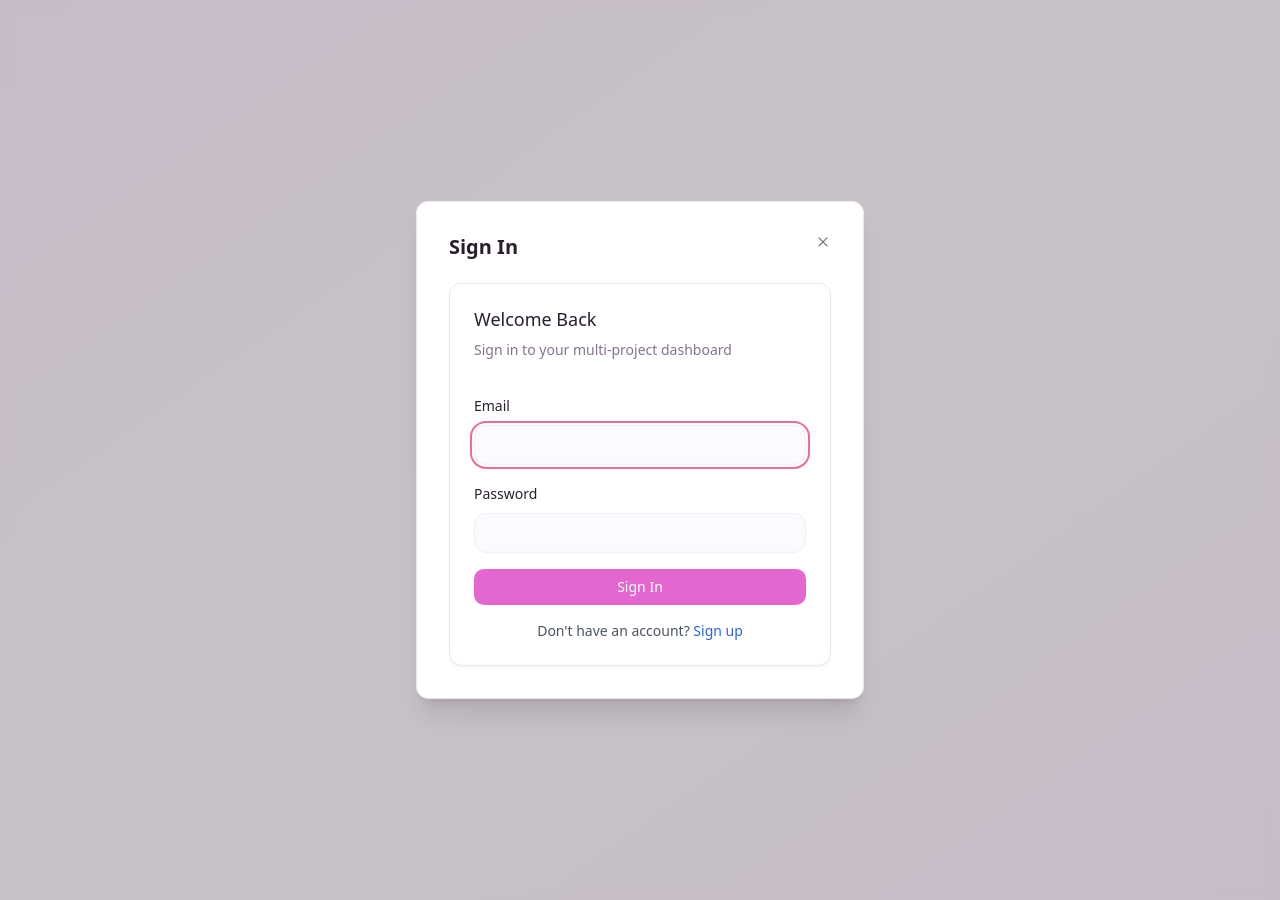
Test: Authentication Components › AuthModal › should switch between login and signup modes
The width and height of the screenshot is (1280, 900).
Expected: the text "Welcome Back" is shown, [474,307,596,331]
# Click signup link
Click the button "Sign up" at {"x": 718, "y": 631}, box [693,621,743,641]
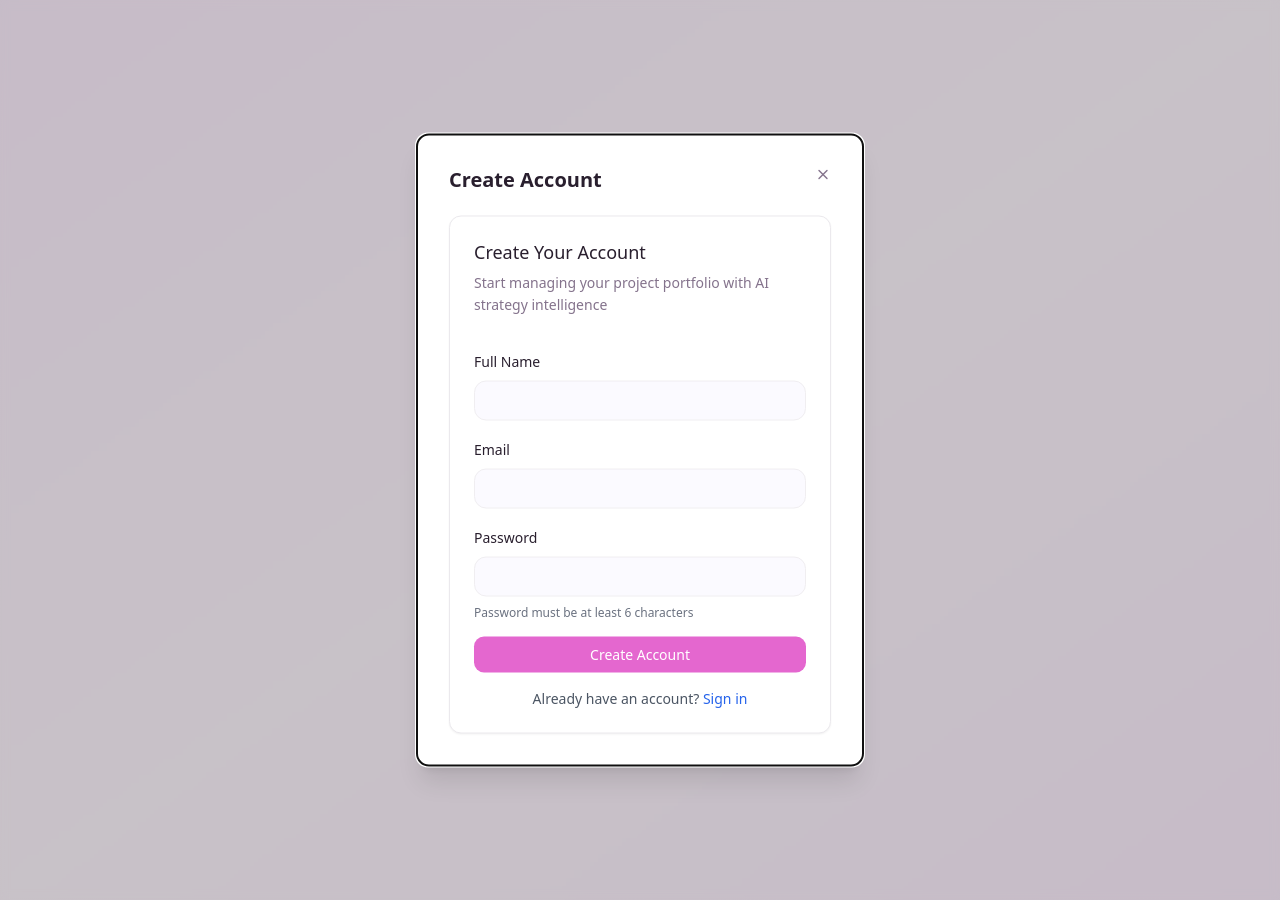
Now the text "Create Your Account" is shown, box [474,240,646,264]
